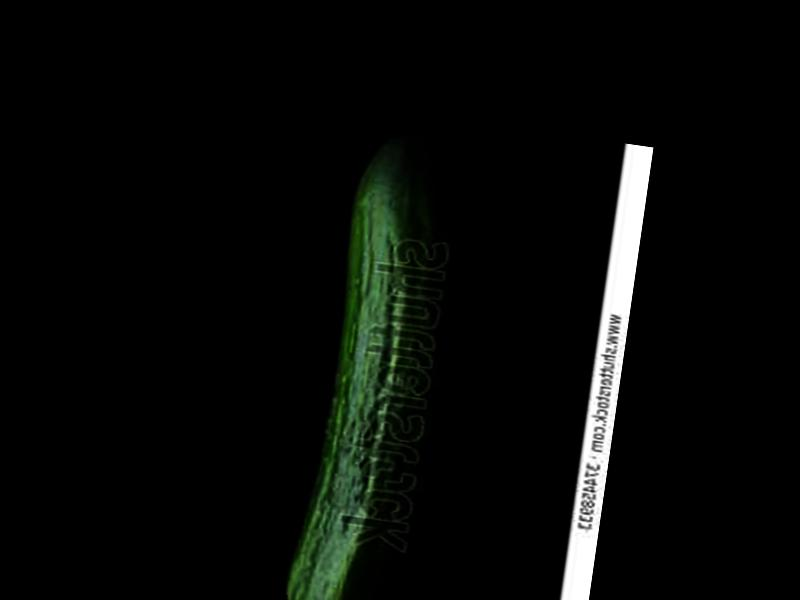Cucumber: (281, 126, 470, 600)
